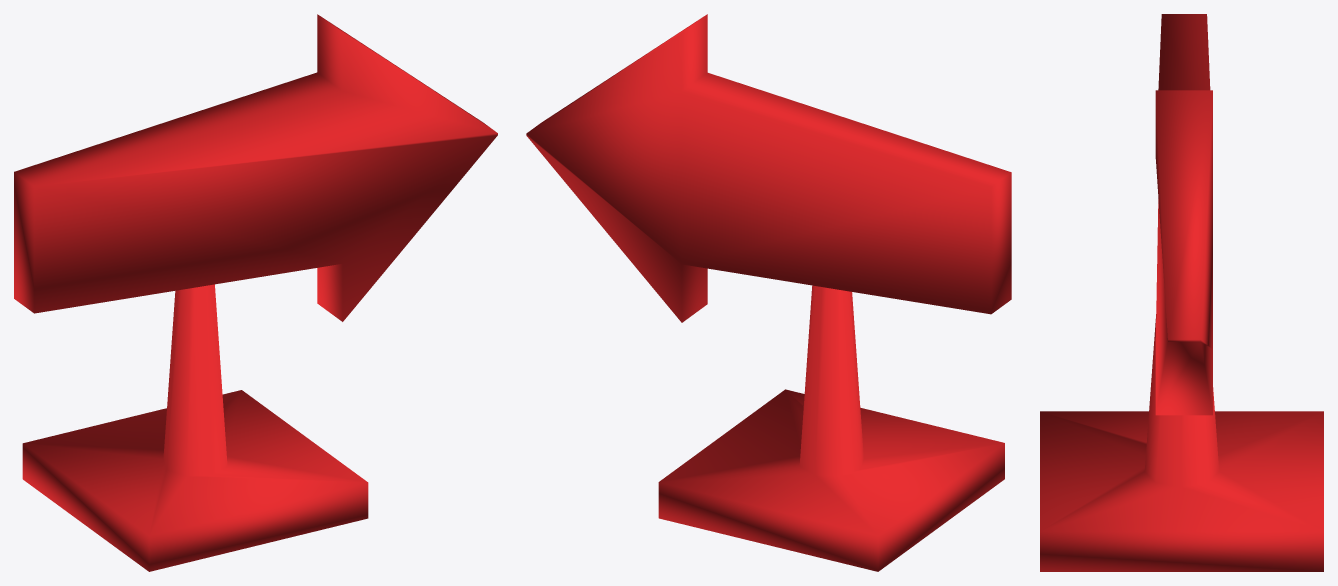
The model's file is ArrowSign.fbx.
3 renders of one model, left to right at view 1: azimuth 30°, elevation 25°; view 2: azimuth 150°, elevation 25°; view 3: azimuth 270°, elevation 25°, orthographic. The views are drawn at different scales.
Visible parts, largest first — view 1: Cube.103; view 2: Cube.103; view 3: Cube.103.
Part boxes in pixels (x1,y1,x2,y2): Cube.103: (14,14,497,571); Cube.103: (526,14,1011,571); Cube.103: (1040,14,1323,571).
Size of the model in its own units: 258 by 233 by 121.
